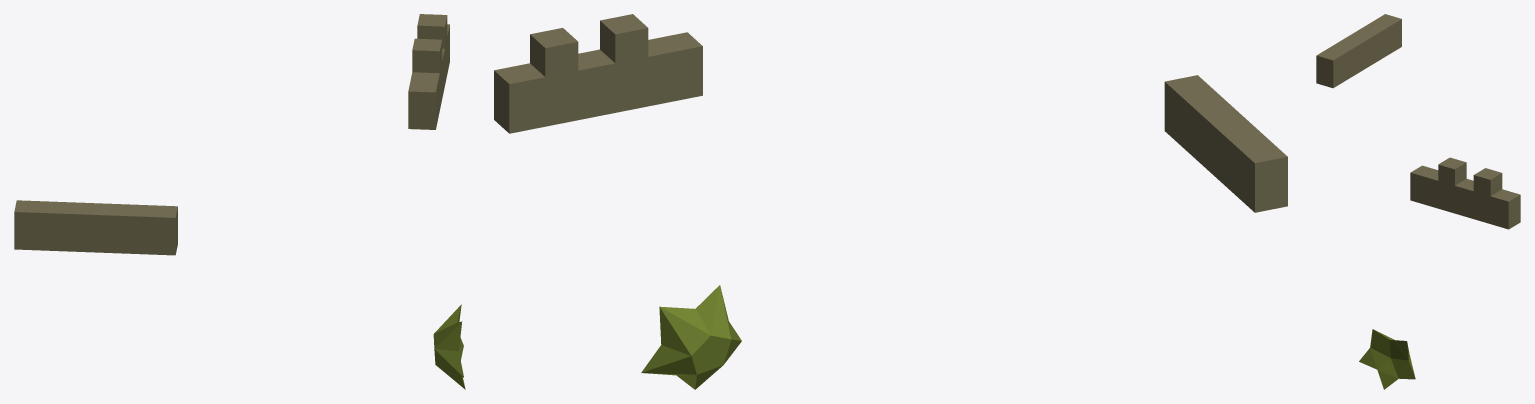
3 renders of one model, left to right at view 1: azimuth 30°, elevation 25°; view 2: azimuth 150°, elevation 25°; view 3: azimuth 270°, elevation 25°, orthographic. The views are drawn at different scales.
Parts seen in each view (by area): view 1: Object281_rock2_0, Object277_rock2_0, Box16107_green2_0, Box15778_rock2_0, Box15777_rock2_0; view 2: Object277_rock2_0, Object281_rock2_0, Box16107_green2_0, Box15778_rock2_0, Box15777_rock2_0; view 3: Object277_rock2_0, Object281_rock2_0, Box16107_green2_0, Box15777_rock2_0, Box15778_rock2_0.
Part boxes in pixels (left/top/right/bottom): Object281_rock2_0: left=14, top=200, right=177, bottom=255; Object277_rock2_0: left=408, top=24, right=449, bottom=129; Box16107_green2_0: left=433, top=304, right=465, bottom=389; Box15778_rock2_0: left=412, top=38, right=442, bottom=73; Box15777_rock2_0: left=417, top=14, right=447, bottom=48; Object277_rock2_0: left=494, top=32, right=702, bottom=133; Object281_rock2_0: left=1164, top=75, right=1287, bottom=212; Box16107_green2_0: left=641, top=285, right=741, bottom=389; Box15778_rock2_0: left=600, top=14, right=648, bottom=63; Box15777_rock2_0: left=530, top=28, right=578, bottom=76; Object277_rock2_0: left=1410, top=165, right=1520, bottom=229; Object281_rock2_0: left=1316, top=14, right=1401, bottom=88; Box16107_green2_0: left=1359, top=329, right=1415, bottom=389; Box15777_rock2_0: left=1473, top=168, right=1502, bottom=196; Box15778_rock2_0: left=1438, top=157, right=1466, bottom=185.
Bounding box in the file's own units: 867 × 494 × 398.
